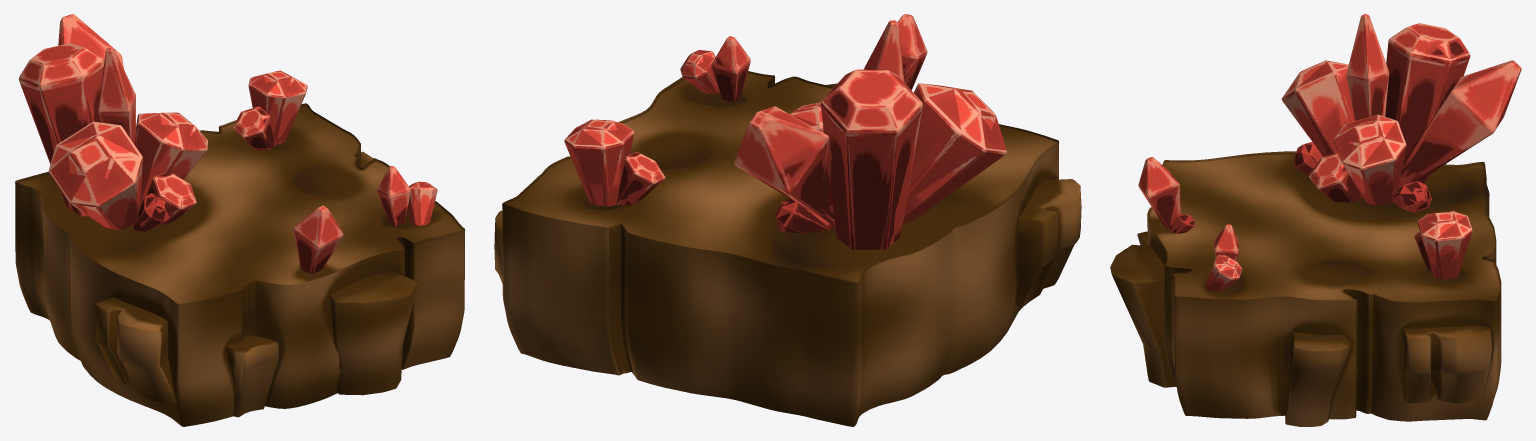
Rendered from land-B.glb.
The picture shows the model from 3 angles, left to right: view 1: azimuth 30°, elevation 25°; view 2: azimuth 150°, elevation 25°; view 3: azimuth 270°, elevation 25°; orthographic projection. The views are drawn at different scales.
Parts seen in each view (by area): view 1: Land; view 2: Land; view 3: Land.
Part boxes in pixels (box(x1,y1,x2,y2)): Land: box(15, 14, 465, 426); Land: box(494, 14, 1081, 426); Land: box(1110, 14, 1521, 426).
Bounding box in the file's own units: 9.26 × 7.13 × 9.28.
Materials: 1 (1 with a texture image).
